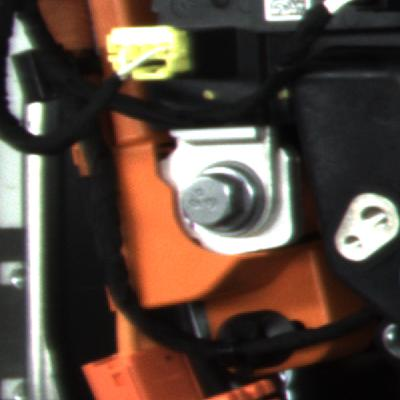nut_b: (173, 153, 268, 243)
